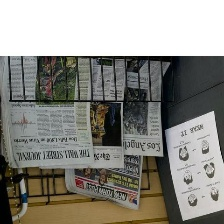news_paper: (0, 56, 96, 169), (41, 57, 126, 169), (101, 57, 172, 160), (59, 148, 146, 214)
